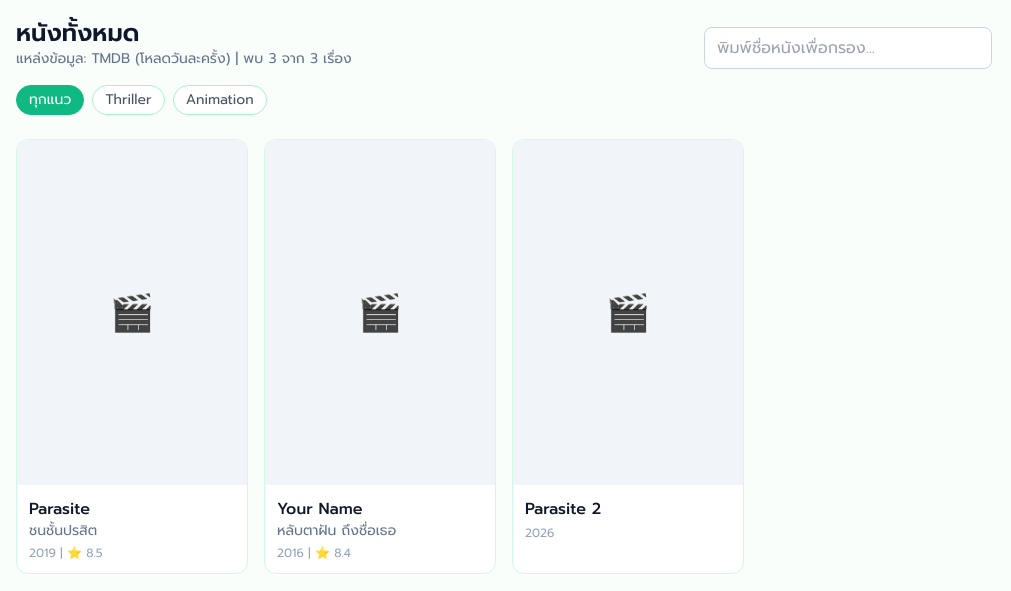
it: พิมพ์ค้นหา ต้องกรองในเครื่องโดยไม่เรียก backend ซ้ำ
Expected: the heading "Parasite" is shown, [29,497,90,521]
Type "your" into the field with placeholder "พิมพ์ชื่อหนังเพื่อกรอง..." at (848, 48), box [704,27,992,69]
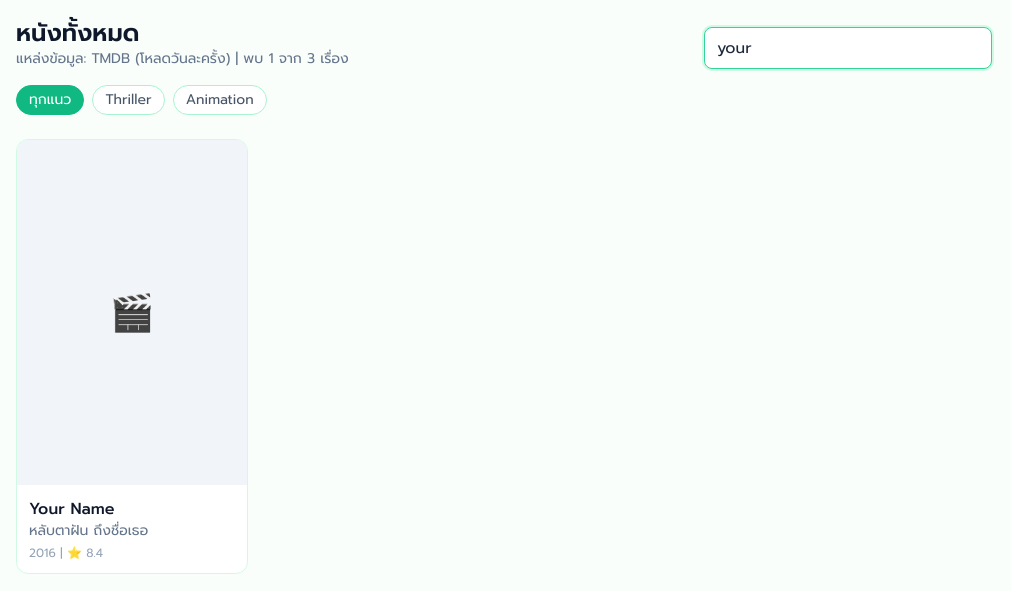
Expected: the heading "Your Name" is shown, [29,497,114,521]
Now the number of links is 1, box [16,139,248,574]
